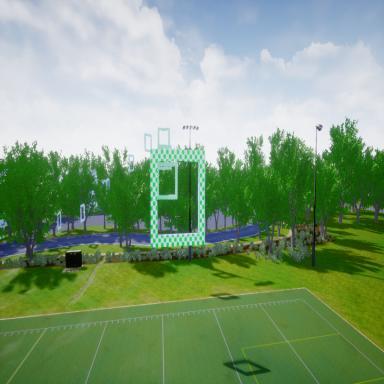gate: (149, 148, 206, 248), (157, 162, 178, 201)
